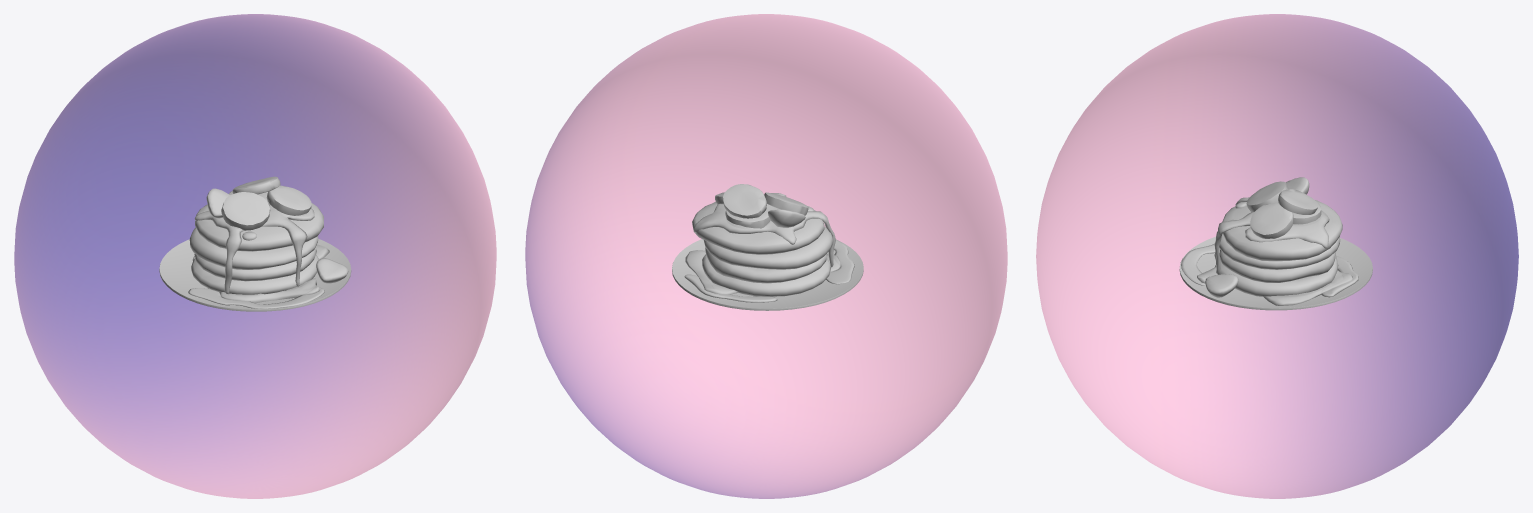
3 renders of one model, left to right at view 1: azimuth 30°, elevation 25°; view 2: azimuth 150°, elevation 25°; view 3: azimuth 270°, elevation 25°, orthographic.
Parts seen in each view (by area): view 1: Sphere, Plate.001, PCake.007, PCake.006, Syrup.009, PCake.004, Banana.006, PCake.005, Strawberry.001, Syrup.008, Banana.005, Syrup.011 (+1 smaller); view 2: Sphere, Plate.001, PCake.007, PCake.006, PCake.004, Syrup.009, PCake.005, Banana.007, Syrup.010, Syrup.008, Syrup.007, Banana.006 (+1 smaller); view 3: Sphere, Plate.001, PCake.007, Syrup.009, PCake.004, PCake.005, Banana.005, PCake.006, Strawberry.001, Syrup.010, Banana.007, Banana.006 (+1 smaller).
Boxes of the visible parts, left/top/right/bottom form: Sphere: left=14, top=14, right=496, bottom=498; Plate.001: left=159, top=239, right=351, bottom=311; PCake.007: left=195, top=203, right=323, bottom=251; PCake.006: left=189, top=227, right=318, bottom=269; Syrup.009: left=194, top=205, right=314, bottom=294; PCake.004: left=191, top=255, right=319, bottom=294; Banana.006: left=221, top=192, right=270, bottom=230; PCake.005: left=194, top=247, right=316, bottom=281; Strawberry.001: left=206, top=188, right=348, bottom=283; Syrup.008: left=188, top=287, right=324, bottom=308; Banana.005: left=266, top=185, right=311, bottom=215; Syrup.011: left=219, top=278, right=320, bottom=303; Sphere: left=525, top=14, right=1007, bottom=498; Plate.001: left=672, top=239, right=863, bottom=310; PCake.007: left=692, top=201, right=824, bottom=254; PCake.006: left=703, top=226, right=833, bottom=269; PCake.004: left=702, top=254, right=830, bottom=296; Syrup.009: left=694, top=193, right=835, bottom=267; PCake.005: left=705, top=247, right=826, bottom=283; Banana.007: left=722, top=184, right=766, bottom=218; Syrup.010: left=685, top=250, right=737, bottom=294; Syrup.008: left=826, top=239, right=854, bottom=284; Syrup.007: left=684, top=274, right=777, bottom=302; Banana.006: left=764, top=192, right=808, bottom=215; Sphere: left=1036, top=14, right=1518, bottom=498; Plate.001: left=1179, top=236, right=1372, bottom=310; PCake.007: left=1222, top=200, right=1342, bottom=261; Syrup.009: left=1214, top=197, right=1329, bottom=273; PCake.004: left=1216, top=256, right=1338, bottom=296; PCake.005: left=1219, top=249, right=1335, bottom=282; Banana.005: left=1250, top=203, right=1293, bottom=238; PCake.006: left=1216, top=231, right=1340, bottom=269; Strawberry.001: left=1205, top=177, right=1309, bottom=297; Syrup.010: left=1263, top=270, right=1352, bottom=305; Banana.007: left=1278, top=189, right=1317, bottom=214; Banana.006: left=1246, top=181, right=1288, bottom=211.
Size of the model in its own units: 4.83 by 4.88 by 4.83.
